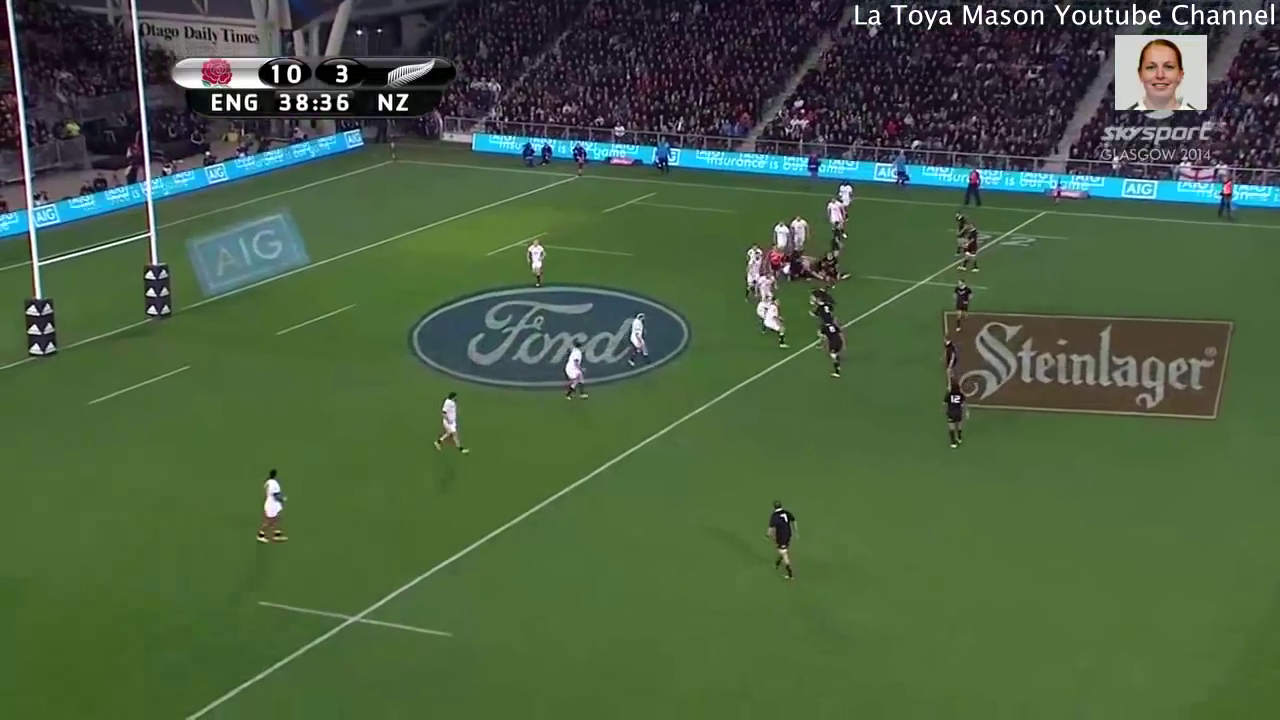player: (242, 461, 297, 556), (759, 495, 805, 584), (937, 374, 973, 458), (429, 384, 470, 457), (556, 343, 596, 404), (619, 305, 655, 371), (517, 228, 556, 288), (817, 313, 849, 382), (945, 276, 975, 336), (933, 329, 964, 381), (762, 294, 791, 348), (949, 204, 975, 259), (955, 219, 978, 277), (785, 213, 813, 256), (824, 218, 853, 257), (768, 216, 792, 263), (742, 251, 762, 306), (822, 192, 846, 235), (816, 250, 845, 284), (834, 175, 858, 216), (754, 268, 779, 299), (762, 240, 782, 271), (743, 238, 764, 262)
post: (1, 1, 181, 370)
ruck: (768, 248, 842, 287)
